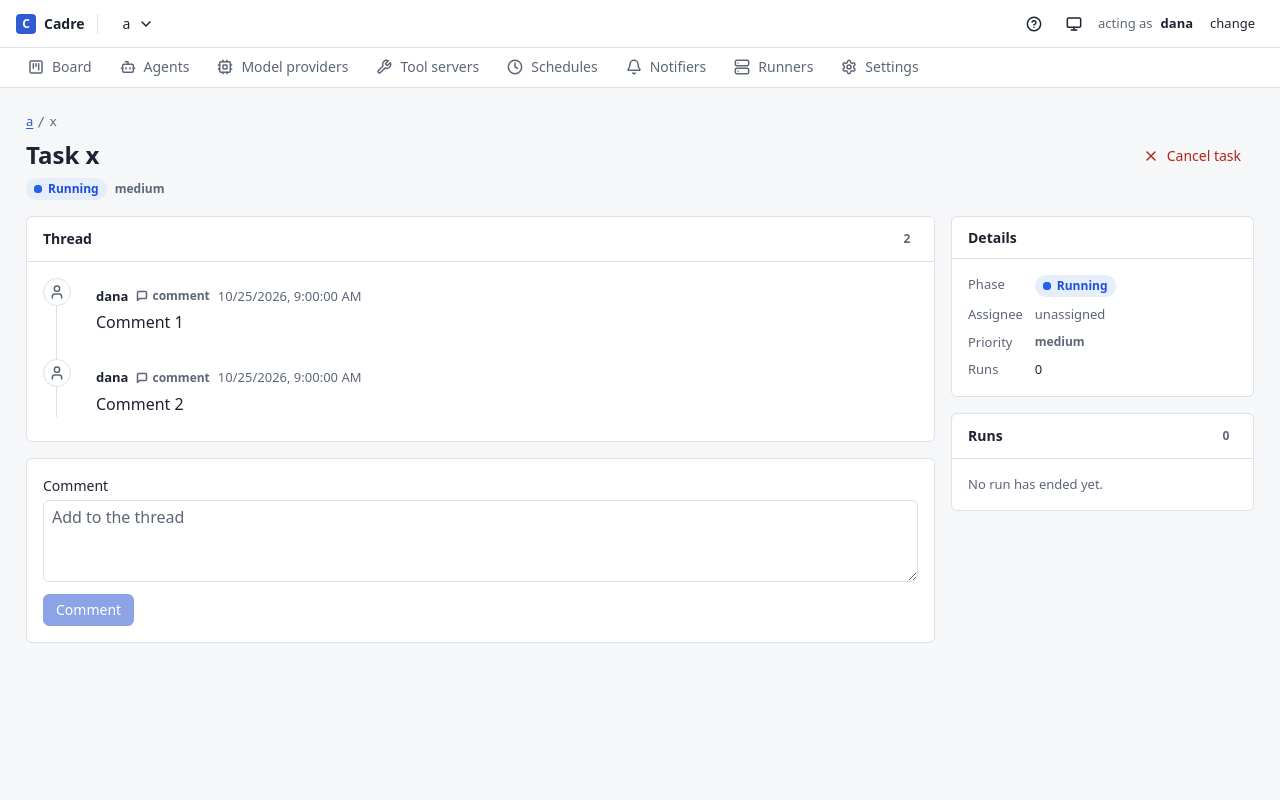
Test: TaskPage › fills the gap when an action's entry is not the next one
Expected: the text "Comment 2" is shown, [96,392,184,414]
In the text box labelled "Comment": coordinates (480, 540) [43,500,918,582], type "hello"
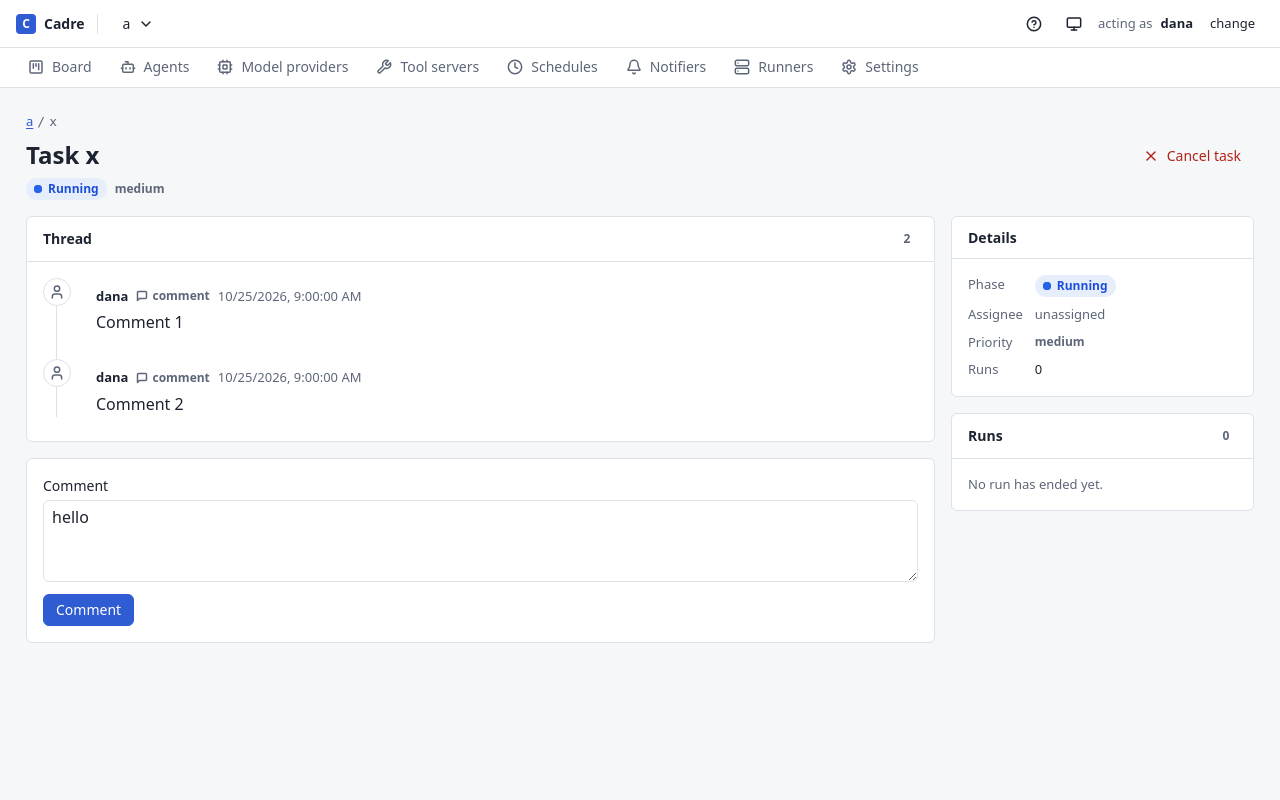
Click the button "Comment": coordinates (89, 610) [43,594,134,626]
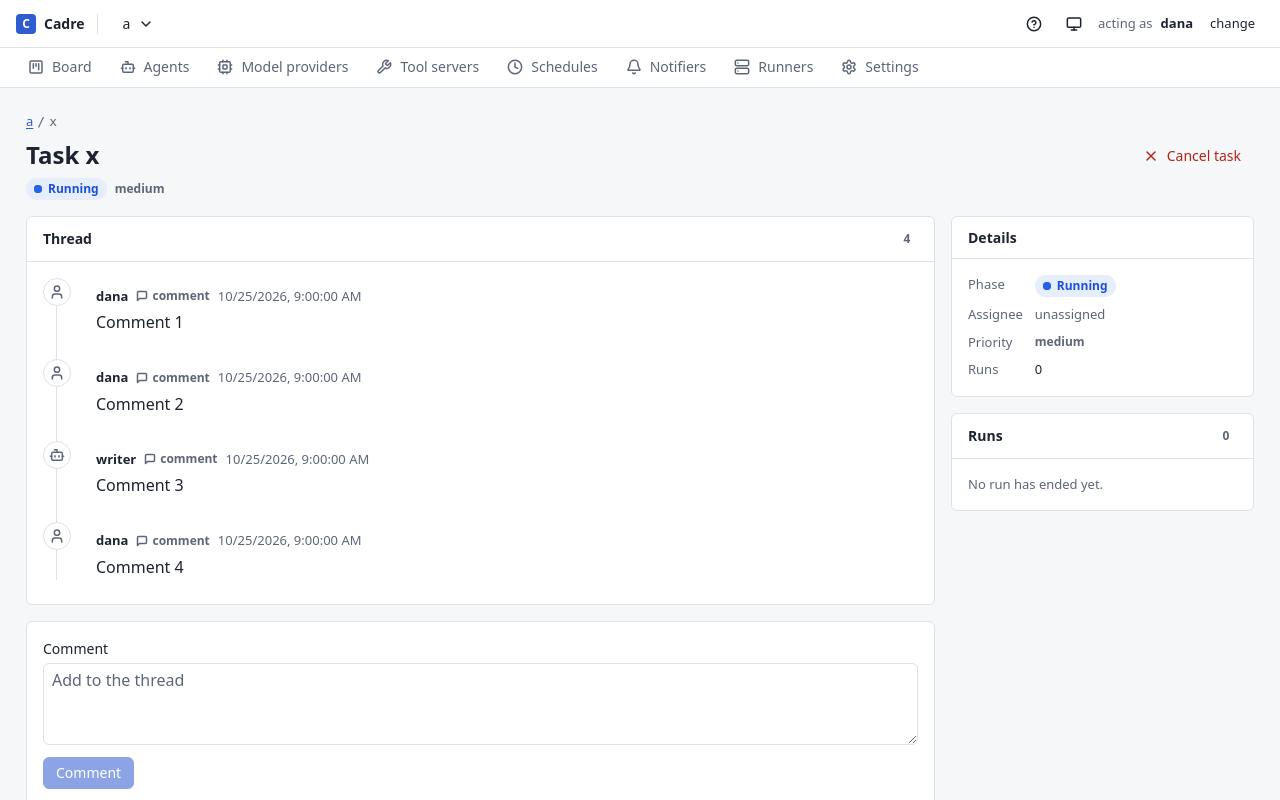
Result: the text "Comment 3" is shown at [96,474,184,496]
Result: the text "Comment 4" is shown at [96,556,184,578]
